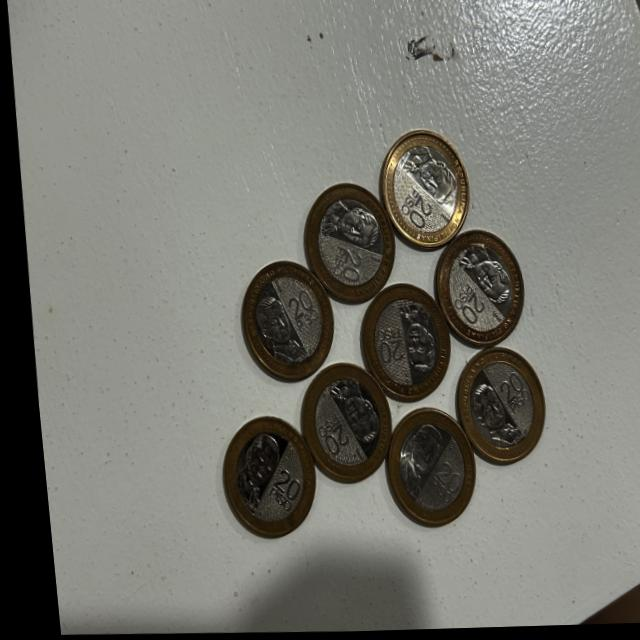20_New_Front: (389, 188, 433, 246), (441, 275, 486, 330), (483, 366, 527, 422), (305, 411, 344, 469), (253, 461, 293, 517), (364, 325, 401, 382), (278, 278, 313, 336), (415, 467, 459, 513), (321, 247, 366, 290)
